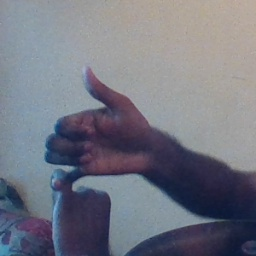S: (35, 54, 155, 241)
